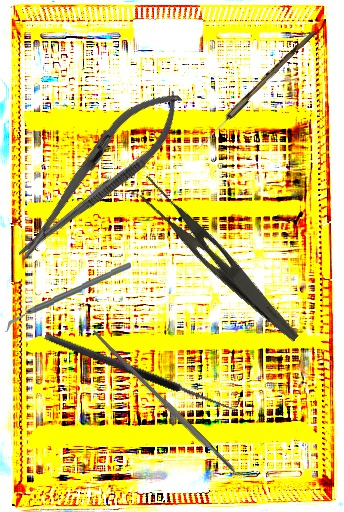Chopper: (2, 261, 134, 333)
Dressing Forceps: (126, 172, 316, 343)
Hook Surgical: (43, 322, 242, 415)
Needle Holder: (0, 74, 197, 276)
Scalpel Handle: (89, 327, 239, 477)
Surgical Spoon: (194, 27, 317, 153)
